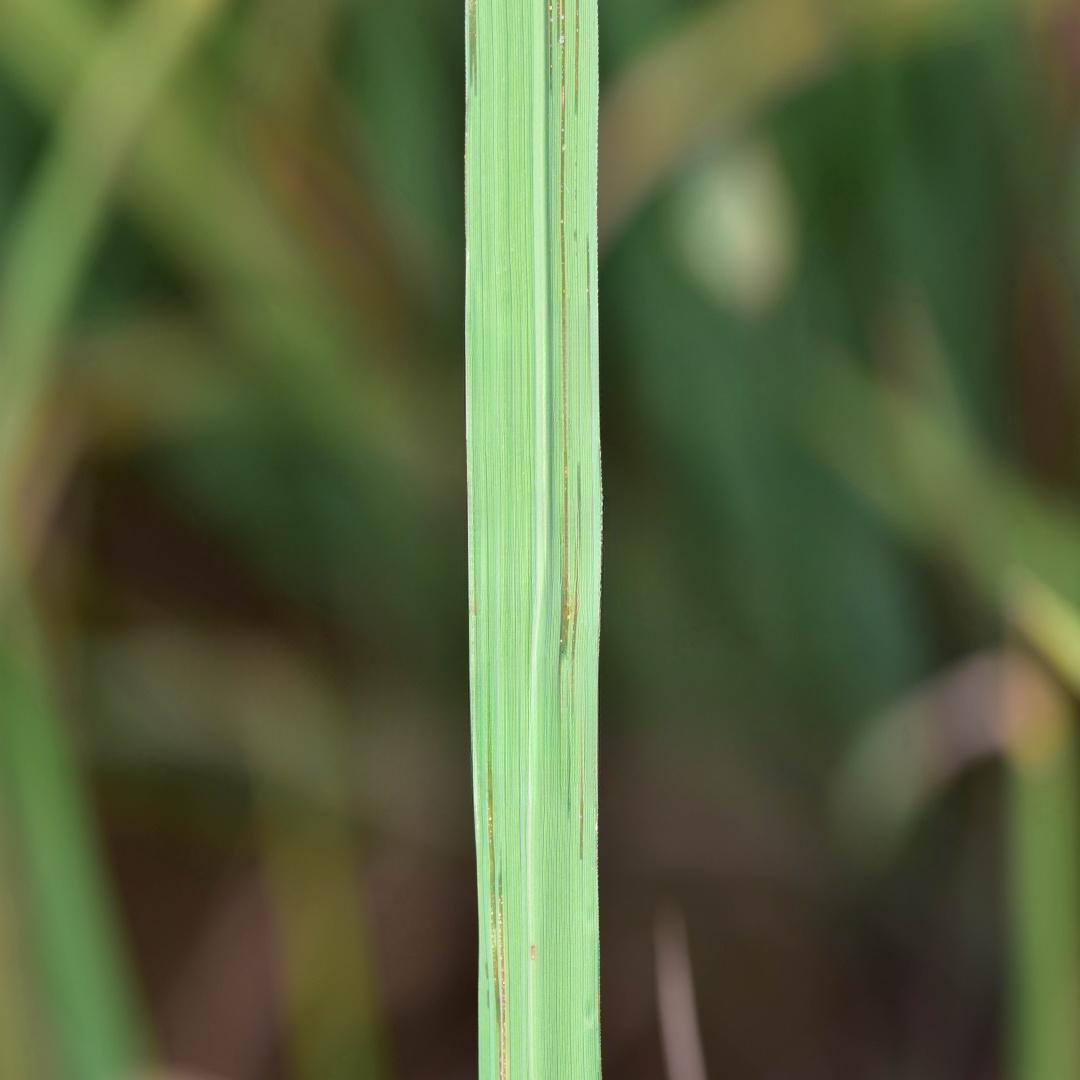BLS: (556, 0, 570, 676), (487, 680, 507, 1079), (570, 462, 581, 704), (469, 0, 478, 96), (575, 1, 579, 127), (580, 759, 584, 861), (549, 0, 552, 91), (587, 236, 590, 313)
